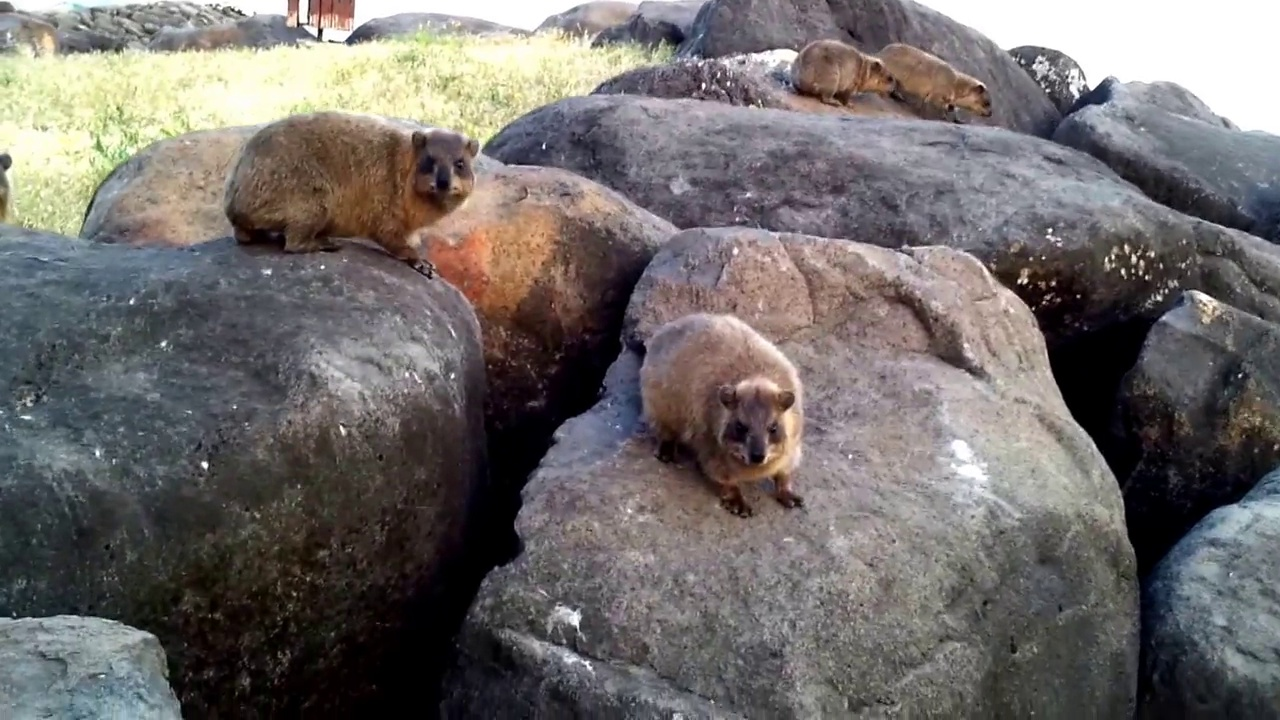Rock Hyrex: (220, 110, 480, 281), (635, 310, 814, 522), (861, 43, 1003, 122), (789, 34, 900, 112)
